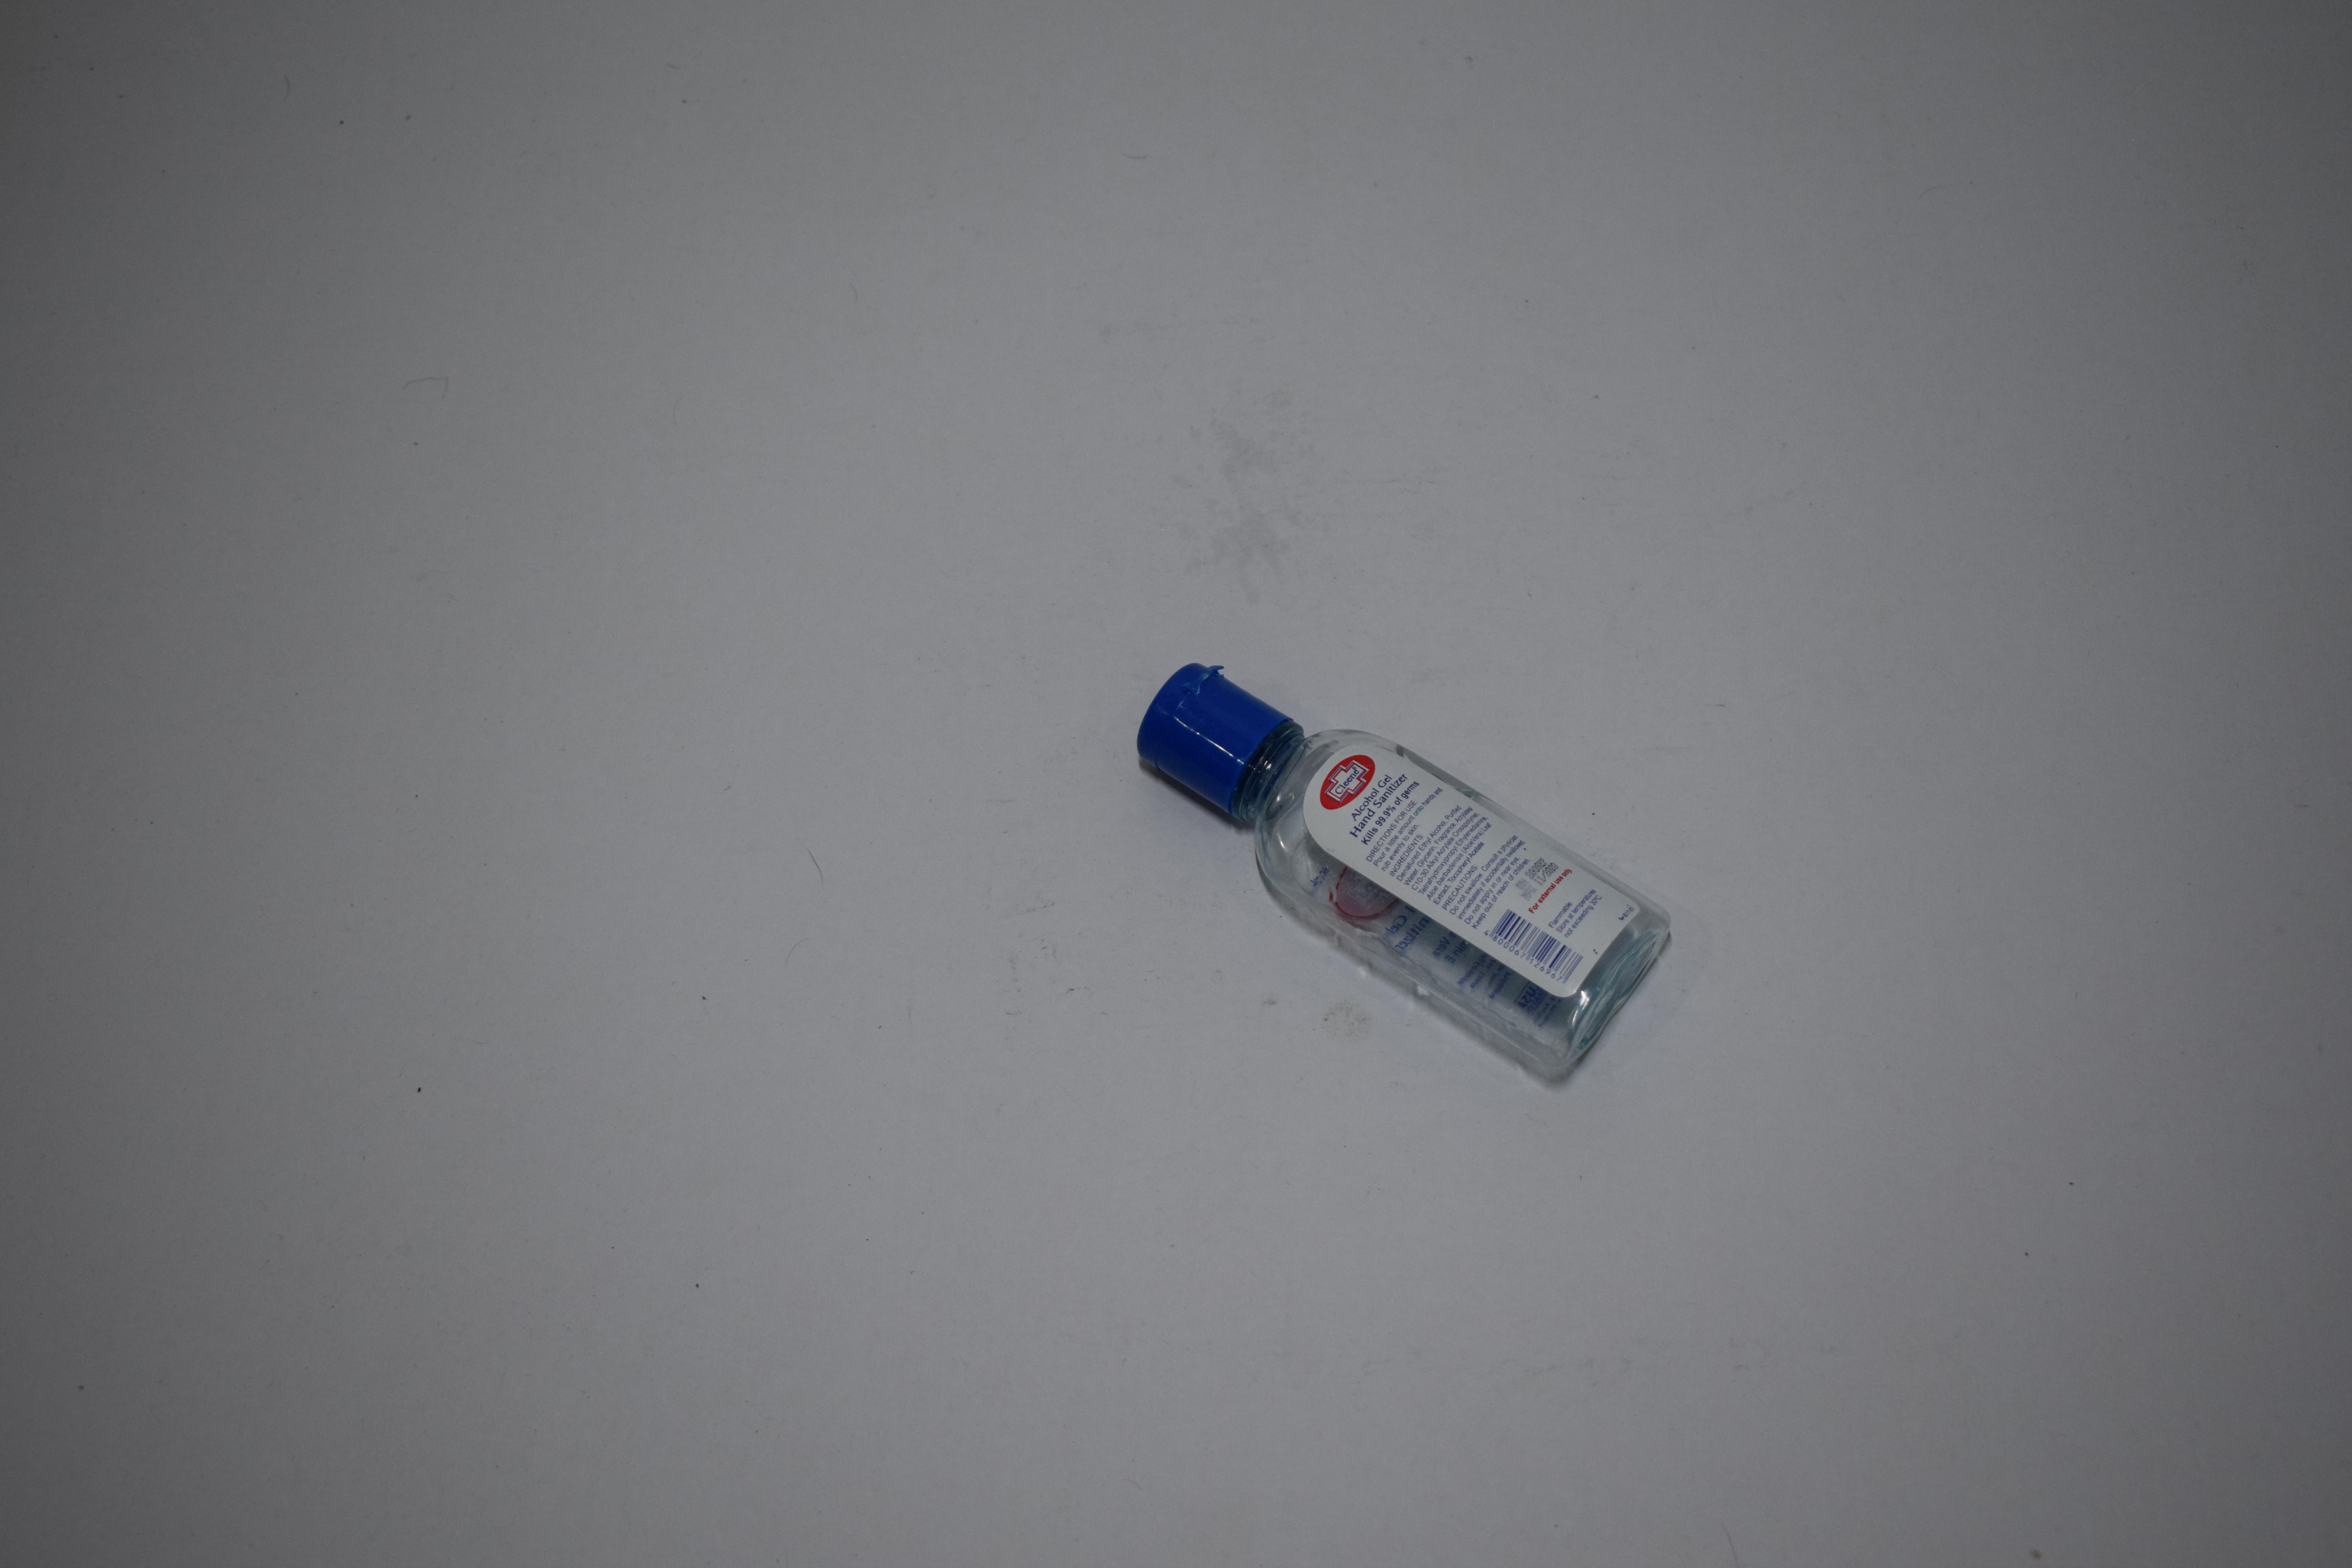bottle: (0, 0, 506, 320)
